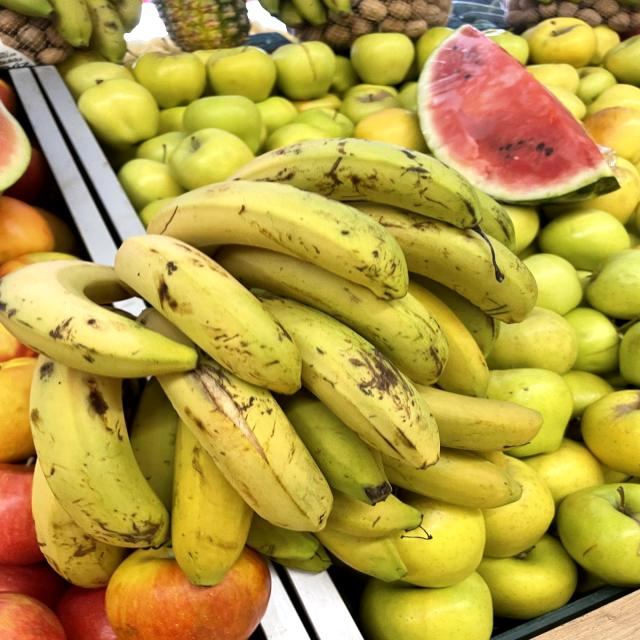banana: (149, 187, 440, 303)
